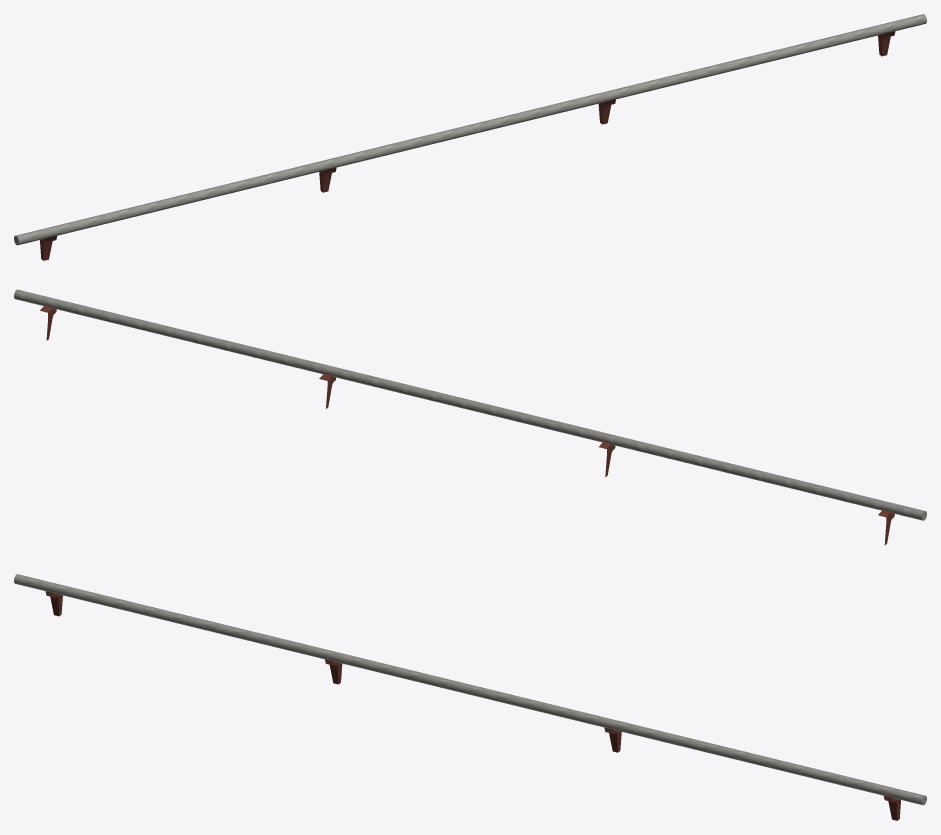
3 renders of one model, top to bottom at view 1: azimuth 30°, elevation 25°; view 2: azimuth 150°, elevation 25°; view 3: azimuth 330°, elevation 25°, orthographic.
Visible parts, largest first — view 1: body0_model0_lod0_mesh0; view 2: body0_model0_lod0_mesh0; view 3: body0_model0_lod0_mesh0.
Boxes of the visible parts, x1=… form: body0_model0_lod0_mesh0: x1=14, y1=14, x2=926, y2=260; body0_model0_lod0_mesh0: x1=14, y1=289, x2=926, y2=544; body0_model0_lod0_mesh0: x1=14, y1=574, x2=926, y2=820.
Size of the model in its own units: 208 by 8 by 3.99.
1 material, 1 textured.
